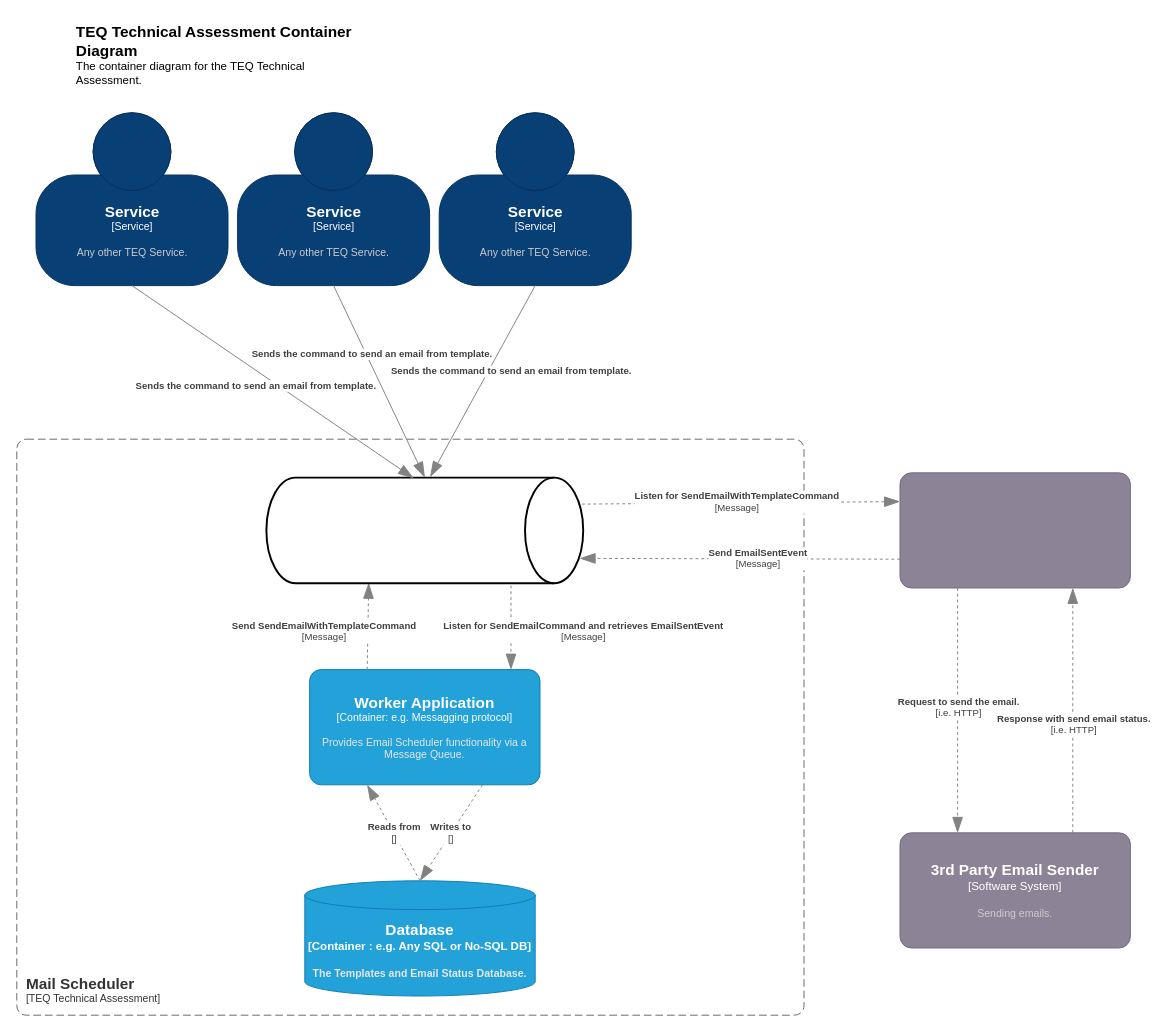
The diagram is 1167 pixels wide and 1032 high, and some of its shapes have lost their labels. Each missing label, with the centre of its shape:
Email Service [Software System] Manage sending emails.: point (1014, 530)
Message Bus: point (424, 530)
